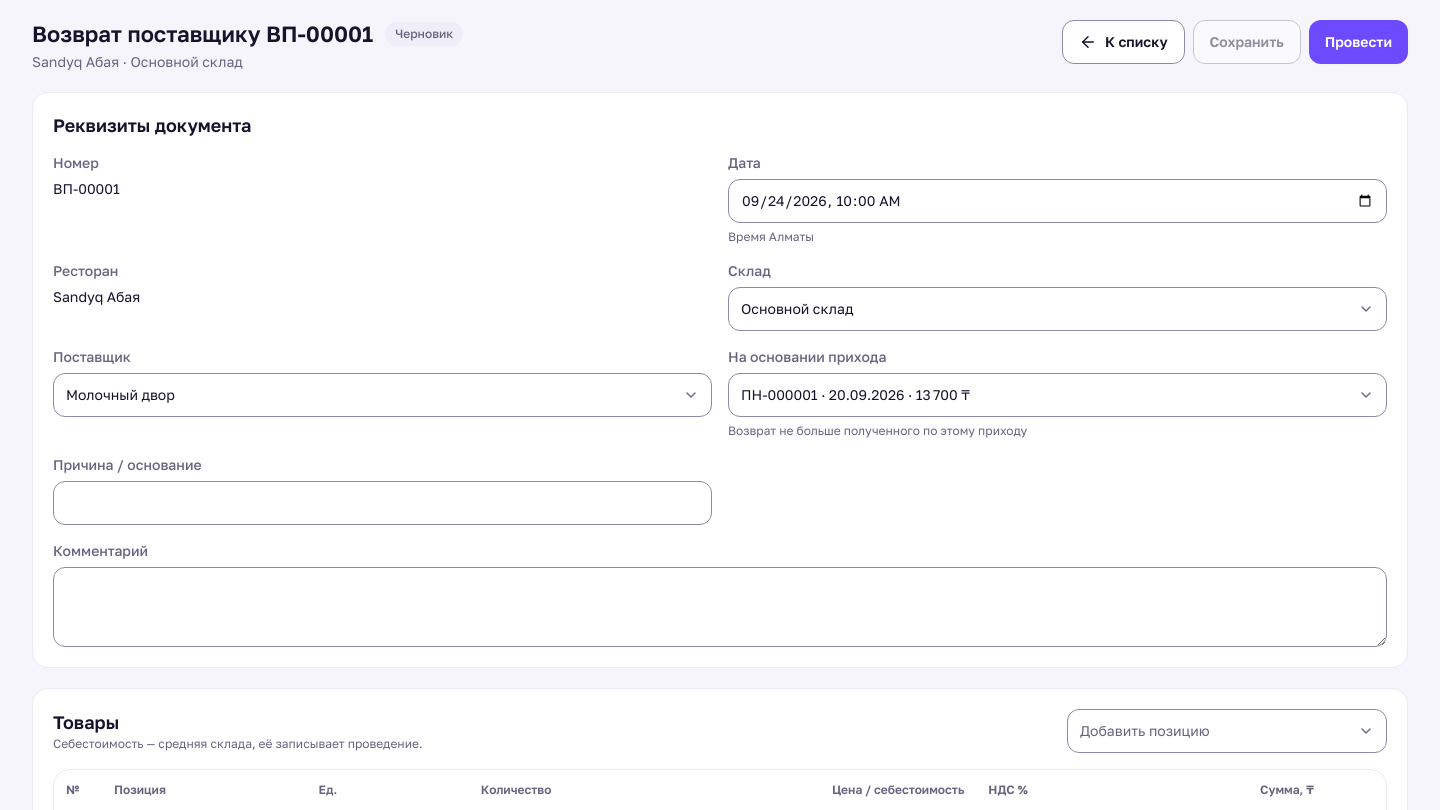
it: «Возвраты поставщикам» (W2-STK-13) › changing the supplier drops the chosen receipt
Expected: the dropdown named "На основании прихода" shows "ПН-000001", x1=728 y1=373 x2=1387 y2=417
Click the dropdown named "Поставщик". click: (120, 394)
box: x1=53 y1=373 x2=712 y2=417
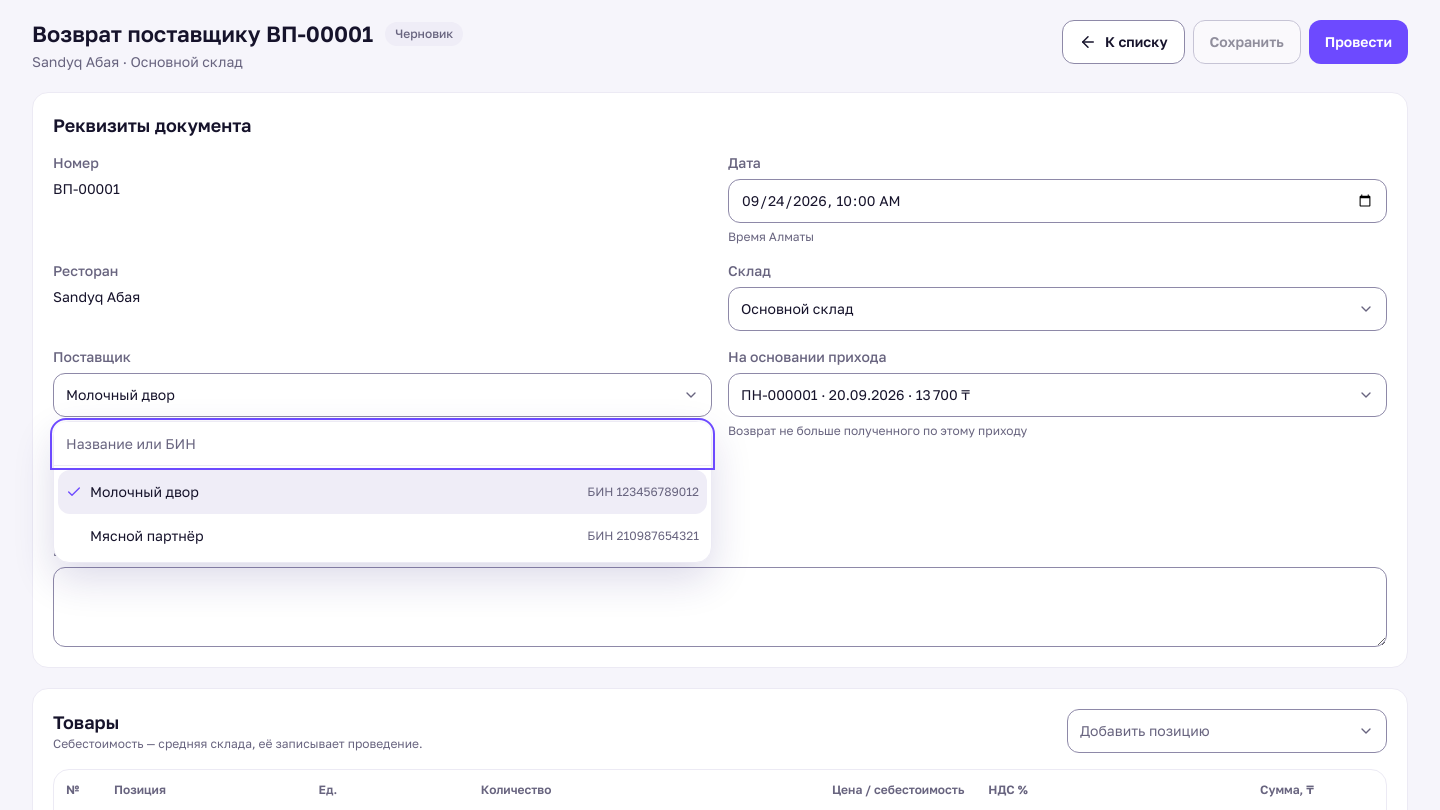
Click the option "Мясной партнёр БИН 210987654321". click: (147, 536)
box: x1=90 y1=527 x2=699 y2=544
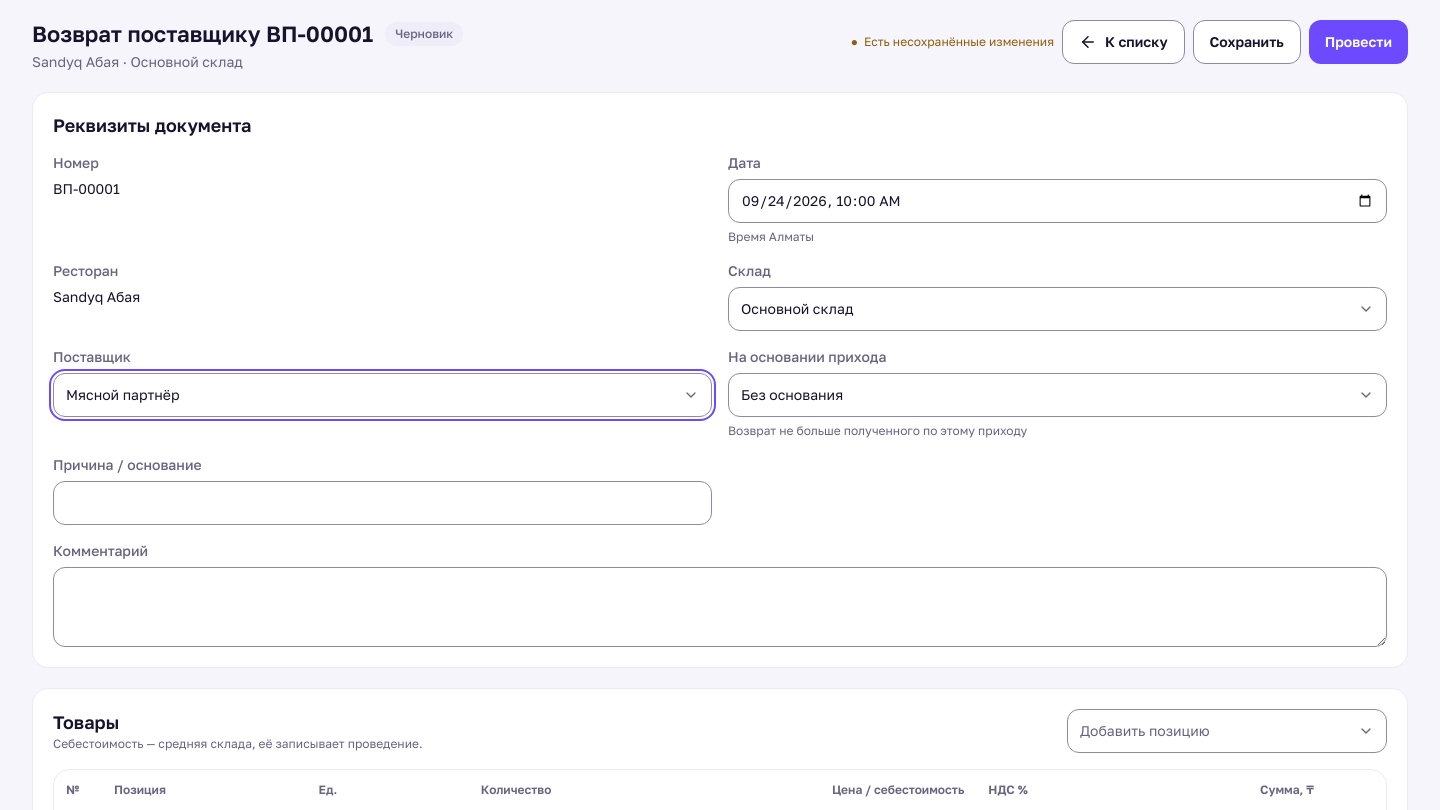
Expected: the dropdown named "На основании прихода" reads "Без основания", x1=728 y1=373 x2=1387 y2=417
